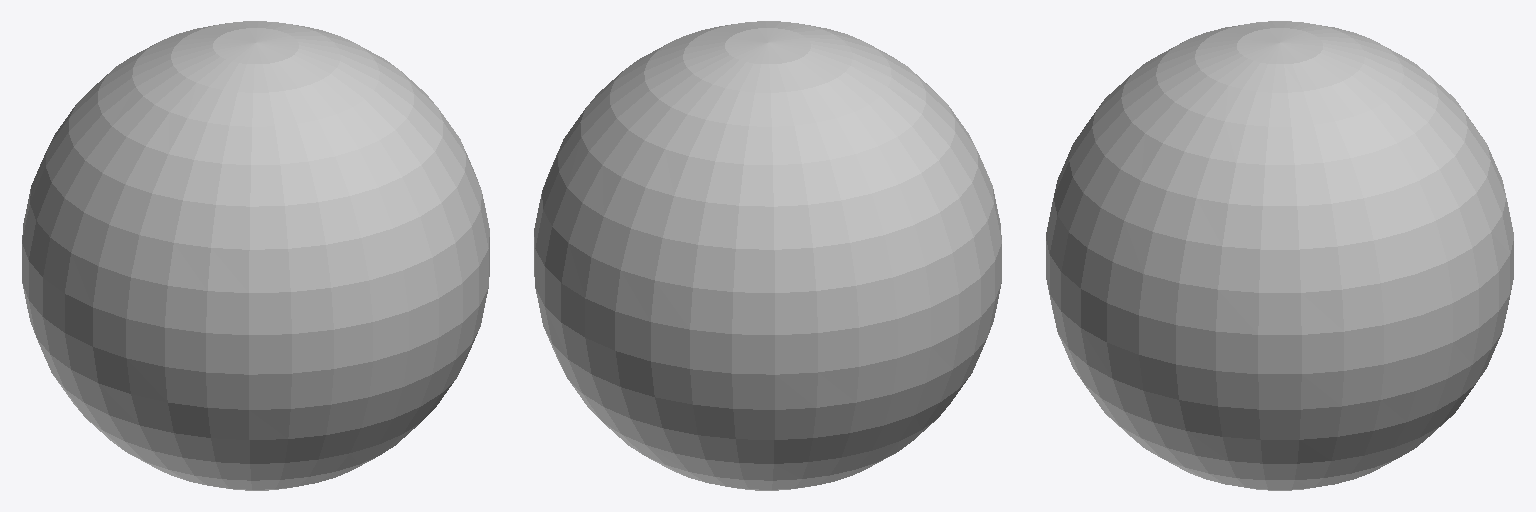
The model's file is left_sphere.obj.
3 renders of one model, left to right at view 1: azimuth 30°, elevation 25°; view 2: azimuth 150°, elevation 25°; view 3: azimuth 270°, elevation 25°, orthographic.
Visible parts, largest first — view 1: leftSphere; view 2: leftSphere; view 3: leftSphere.
Part boxes in pixels (left/top/right/bottom): leftSphere: left=22, top=21, right=489, bottom=490; leftSphere: left=534, top=21, right=1001, bottom=490; leftSphere: left=1046, top=21, right=1513, bottom=490.
Bounding box in the file's own units: 0.6472 × 0.6526 × 0.6498.